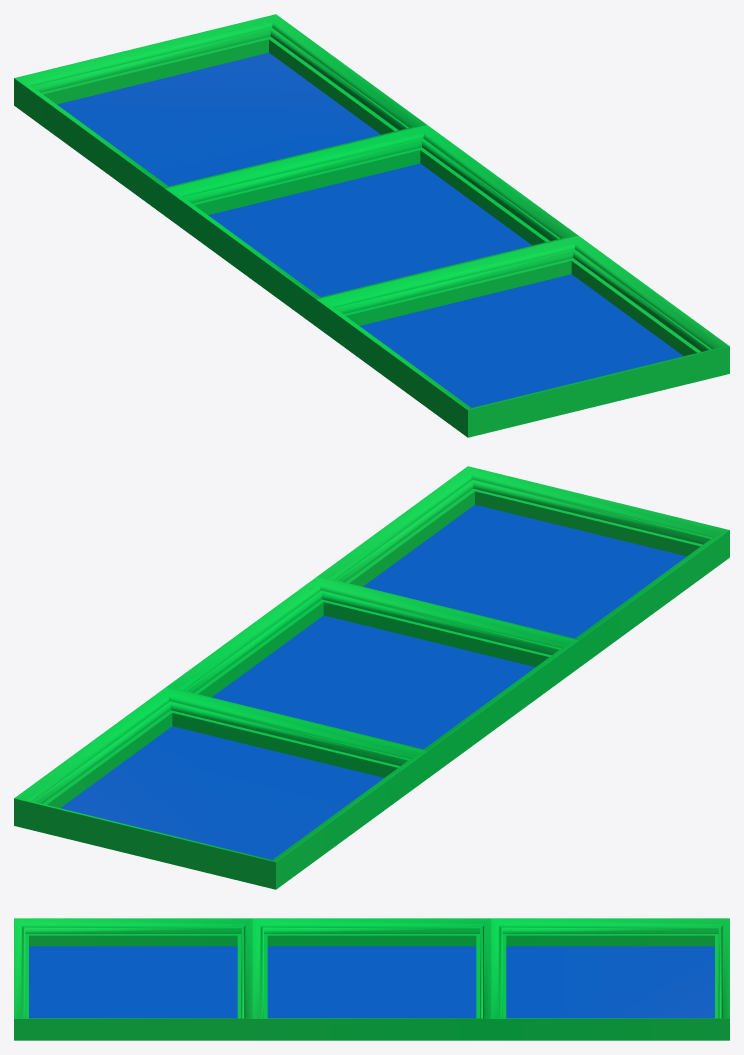
Rendered from RoofImageFrame_ForTexturing_v1.fbx.
3 renders of one model, top to bottom at view 1: azimuth 30°, elevation 25°; view 2: azimuth 150°, elevation 25°; view 3: azimuth 270°, elevation 25°, orthographic. The views are drawn at different scales.
Parts seen in each view (by area): view 1: Frame; view 2: Frame; view 3: Frame.
Part boxes in pixels (<box>): Frame: <box>14,14,729,437</box>; Frame: <box>14,466,729,889</box>; Frame: <box>14,918,729,1040</box>.
Size of the model in its own units: 100 by 10 by 300.
